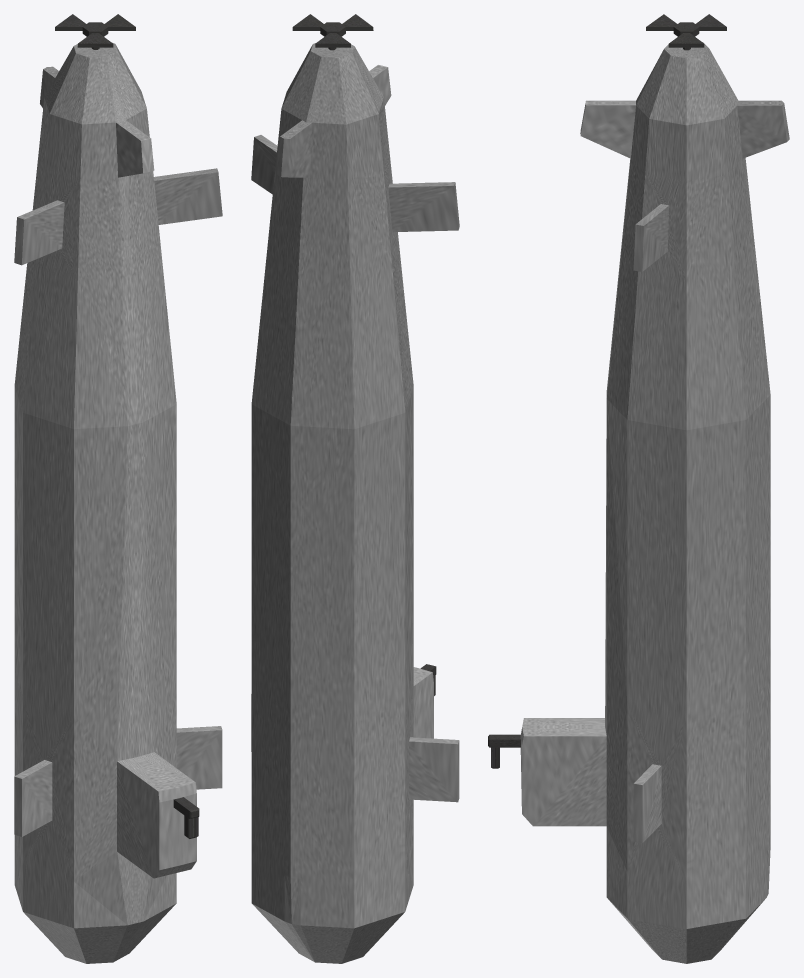
Rendered from submarine.obj.
3 views of the same model, side by side, from view 1: azimuth 30°, elevation 25°; view 2: azimuth 150°, elevation 25°; view 3: azimuth 270°, elevation 25° (orthographic).
Parts seen in each view (by area): view 1: body, propeller, periscope; view 2: body, propeller; view 3: body, propeller, periscope.
Boxes of the visible parts, x1,y1,x2,y2 form: body: (14,43,222,963); propeller: (55,14,135,49); periscope: (173,797,199,838); body: (251,43,459,963); propeller: (292,14,373,50); body: (520,42,789,963); propeller: (646,14,726,50); periscope: (488,734,520,768).
Bounding box in the file's own units: 24.11 × 104 × 30.41.
